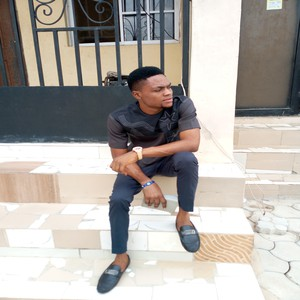Fulokoja_male_student: (107, 68, 201, 256)
